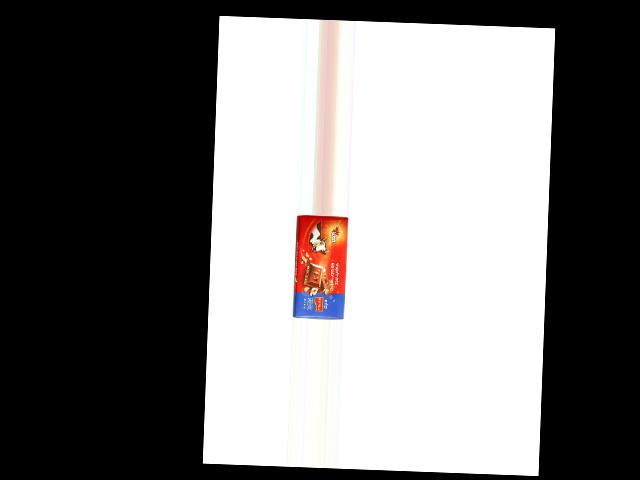chocolate: (288, 215, 347, 318)
